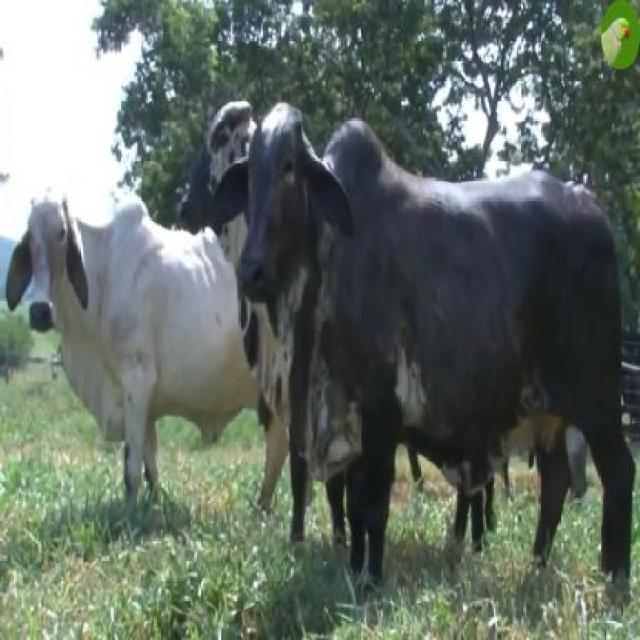Cow: (240, 96, 632, 606), (6, 194, 240, 538)
